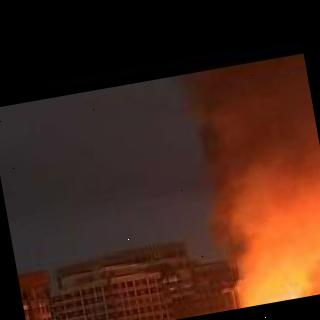fire: (165, 53, 320, 304), (199, 280, 320, 315)
